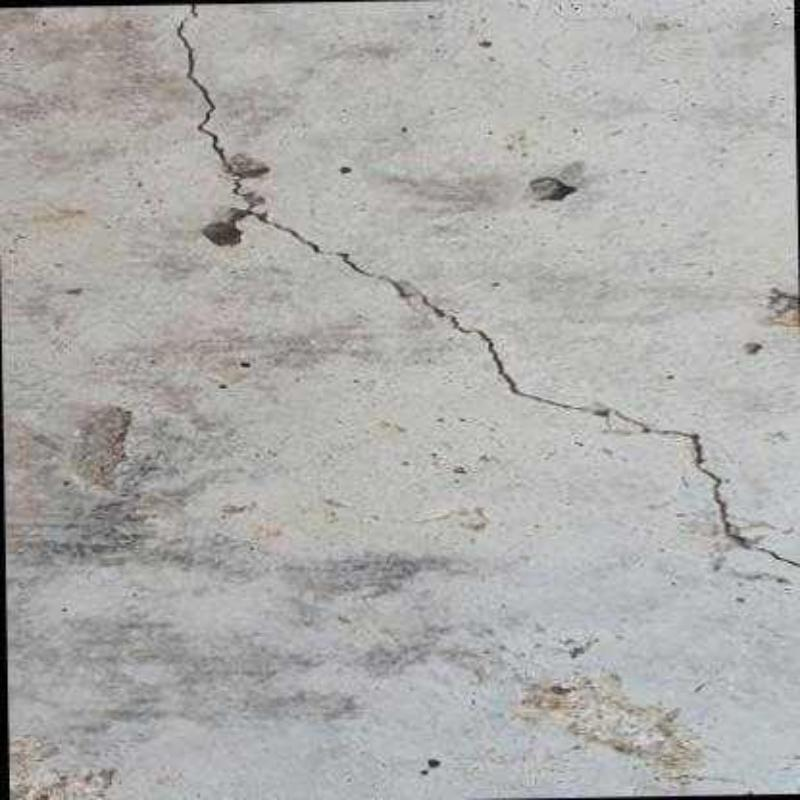crack: (420, 295, 799, 567), (175, 5, 428, 320)
